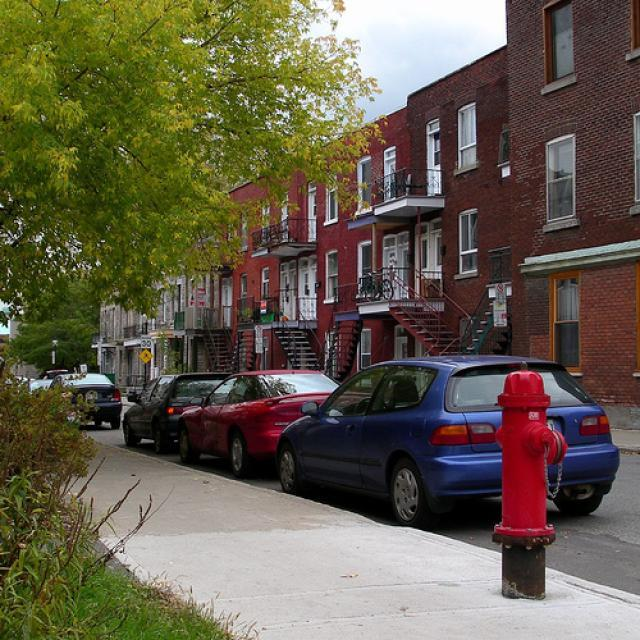fire_hydrant: (490, 370, 567, 600)
